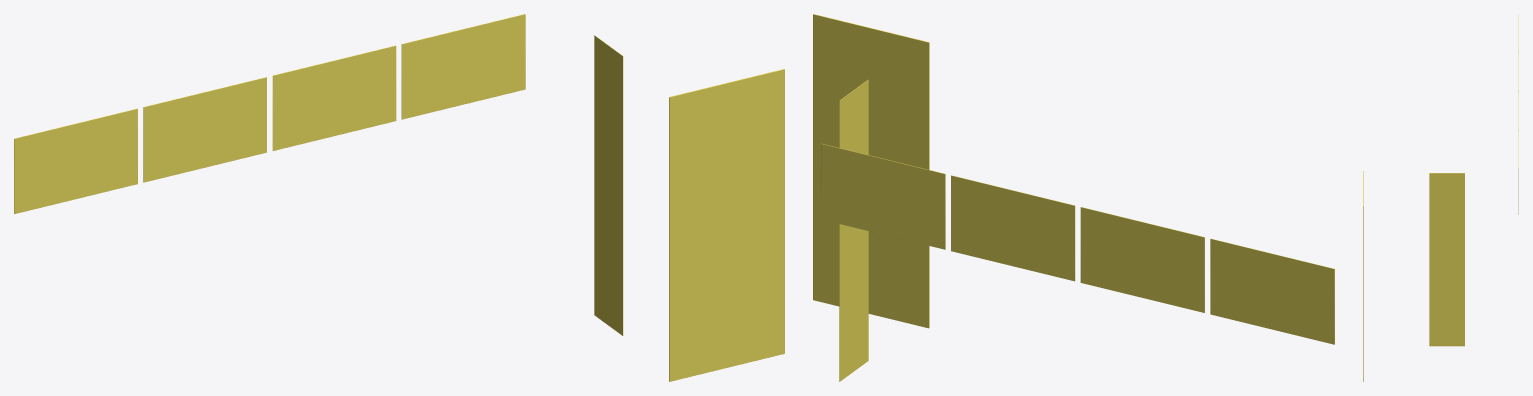
3 views of the same model, side by side, from view 1: azimuth 30°, elevation 25°; view 2: azimuth 150°, elevation 25°; view 3: azimuth 270°, elevation 25° (orthographic). The views are drawn at different scales.
Visible parts, largest first — view 1: Tenis_glass; view 2: Tenis_glass; view 3: Tenis_glass.
Part boxes in pixels (<box>): Tenis_glass: <box>14,14,784,381</box>; Tenis_glass: <box>813,14,1334,381</box>; Tenis_glass: <box>1363,14,1518,381</box>.
Bounding box in the file's own units: 72.87 × 30.76 × 24.68.
